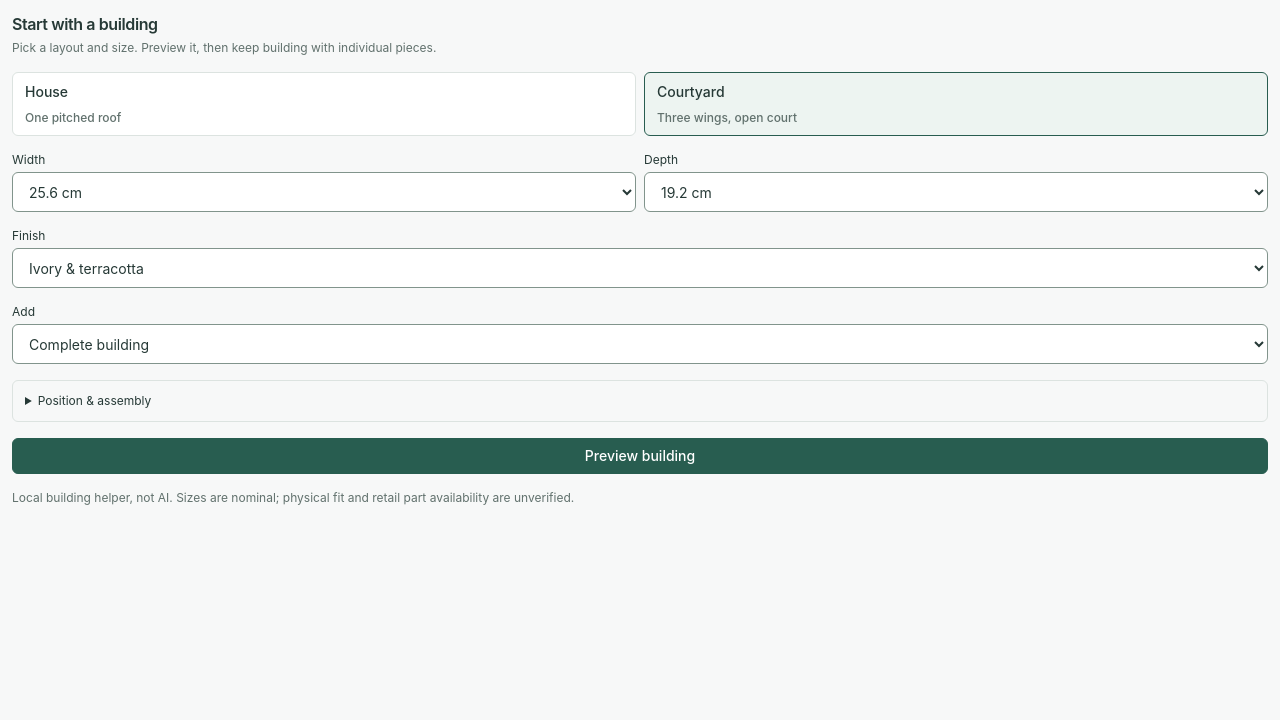
Local building helper › previews the large courtyard, compares with current, and only applies on explicit acceptance
The image size is (1280, 720).
Check: the dropdown named "Building width" shows "25.6 cm", box [12,172,636,212]
Check: the dropdown named "Building depth" shows "19.2 cm", box [644,172,1268,212]
Click the button "Preview building".
click(640, 456)  # box [12,438,1268,474]
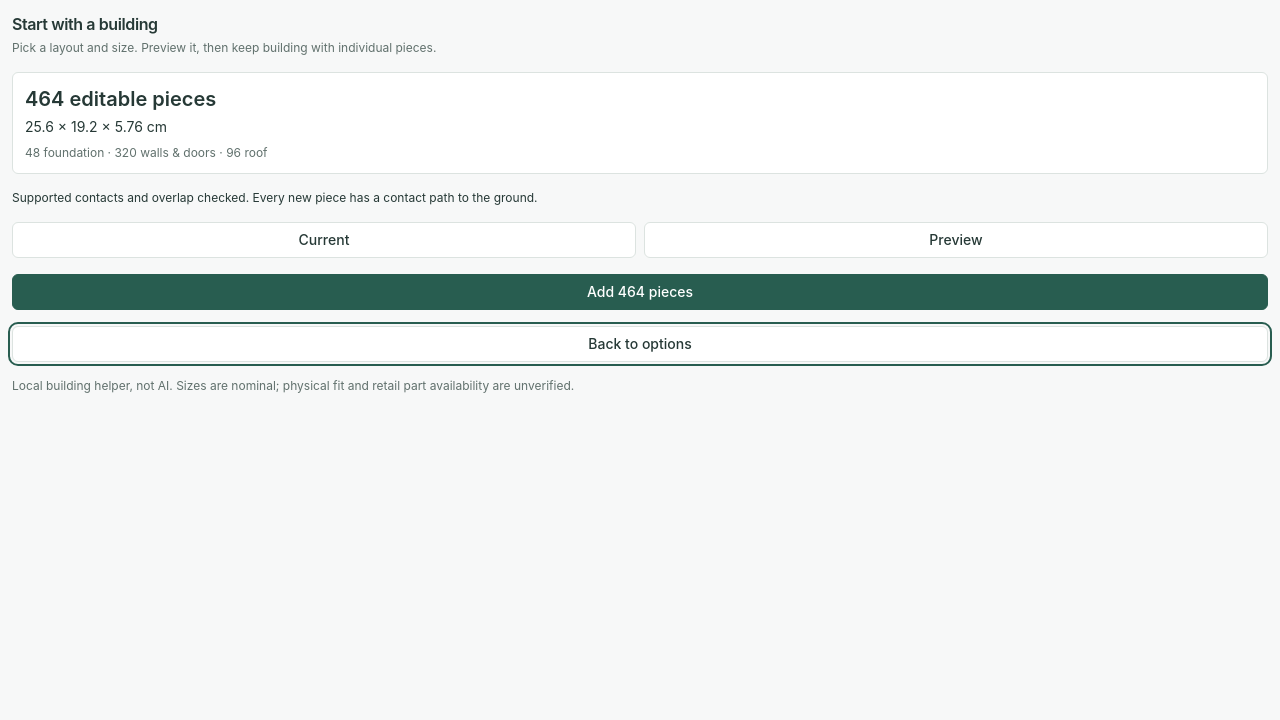
Check: the text "25.6 × 19.2 × 5.76 cm" is shown, box [25,118,167,135]
Click the button "Current".
click(324, 240)  # box [12,222,636,258]
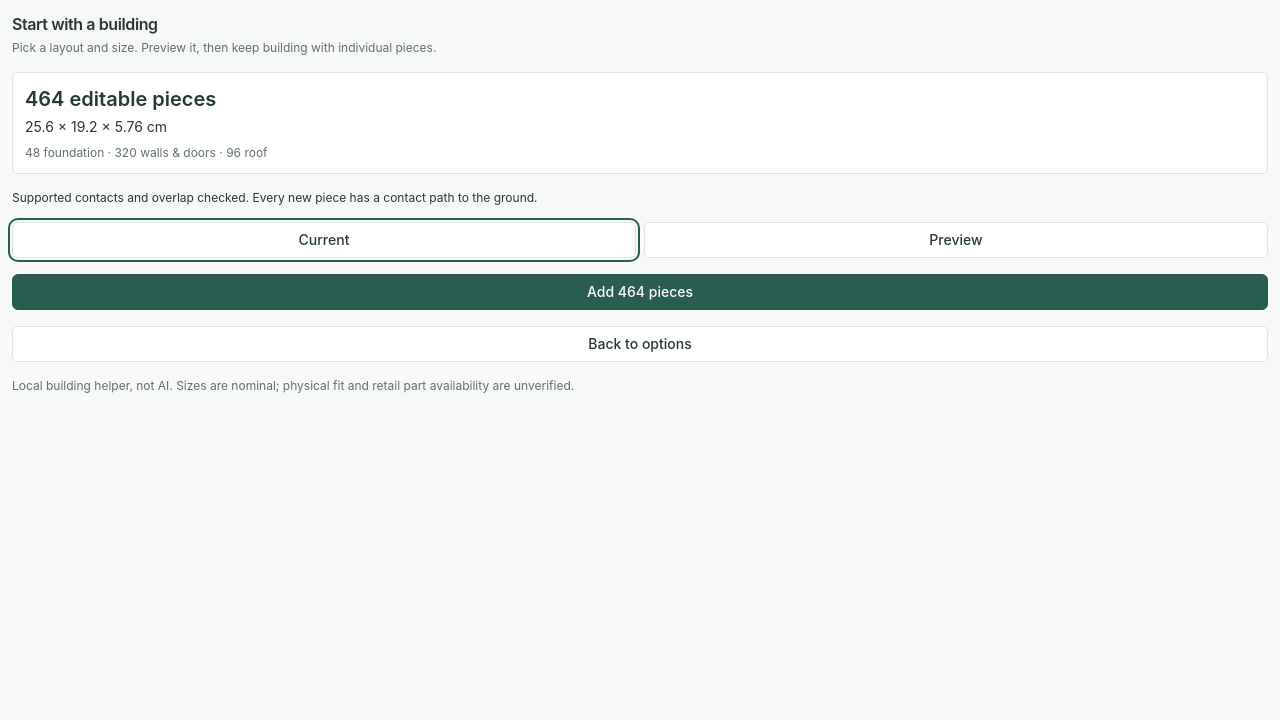
Click the button "Preview".
click(956, 240)  # box [644,222,1268,258]
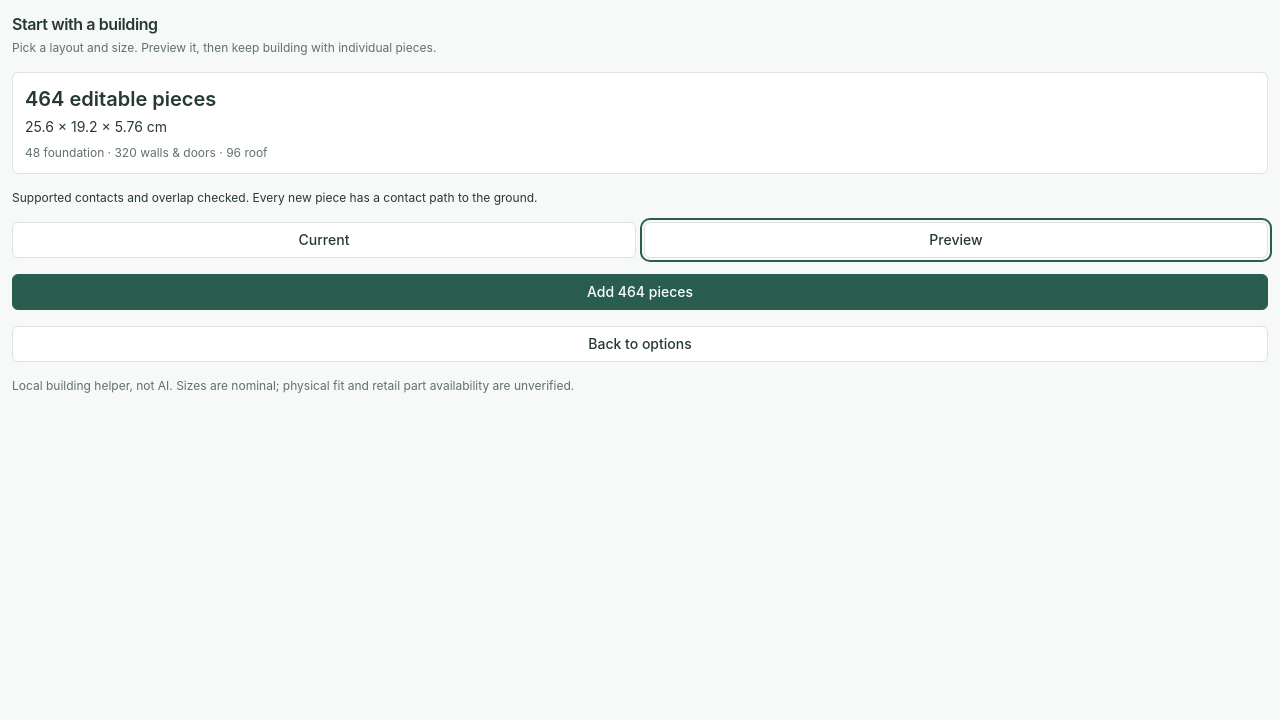
Click the button "Add 464 pieces".
click(640, 292)  # box [12,274,1268,310]
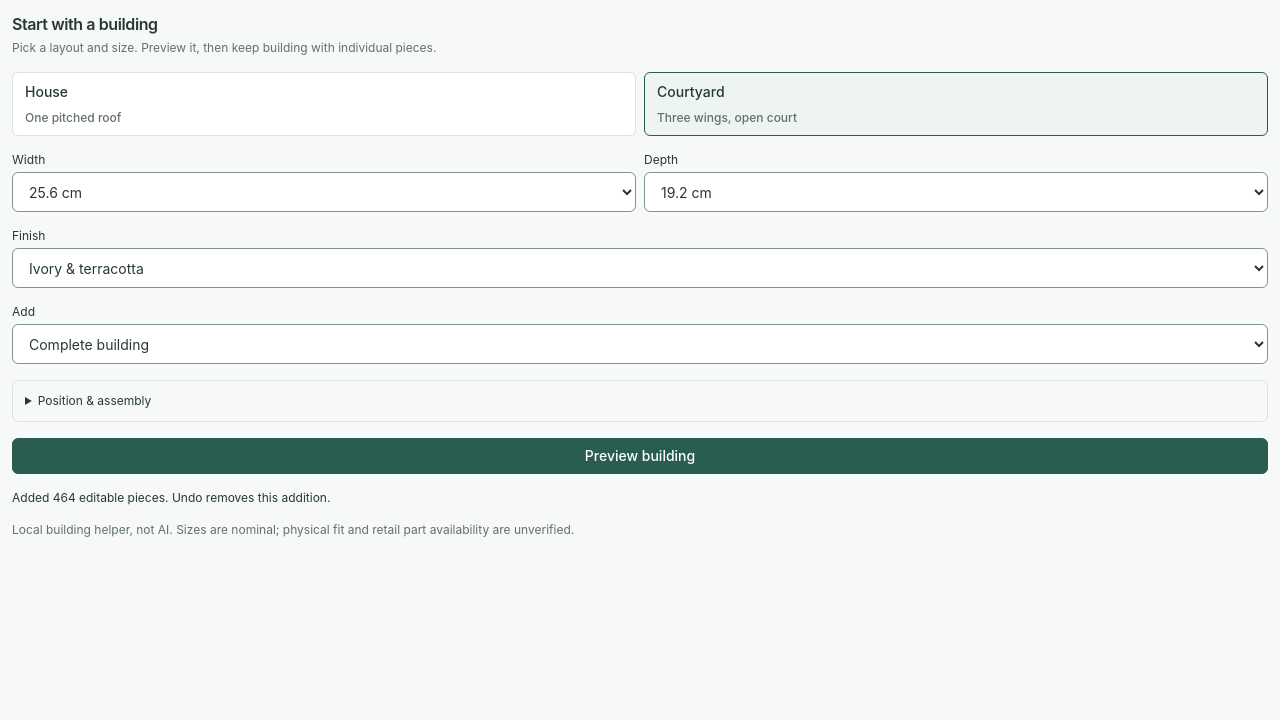
Check: the message shows "Undo removes this addition", box [12,490,330,505]
